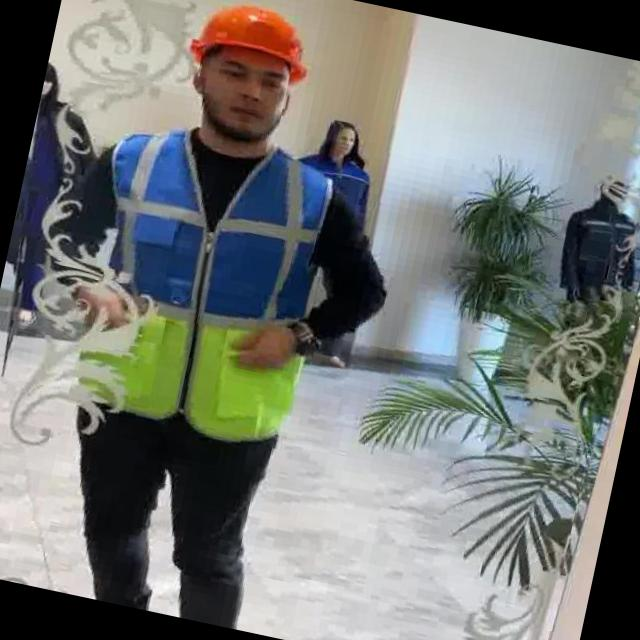helmet: (184, 0, 321, 80)
vest: (58, 114, 347, 457)
